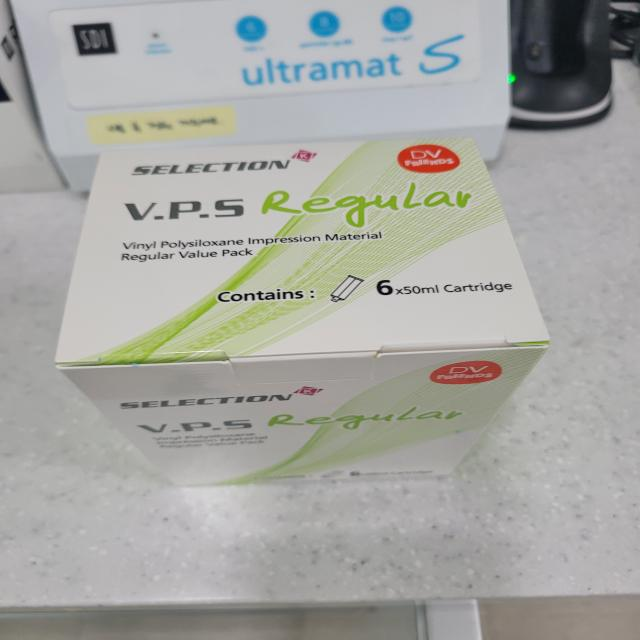impression: (52, 142, 550, 493)
